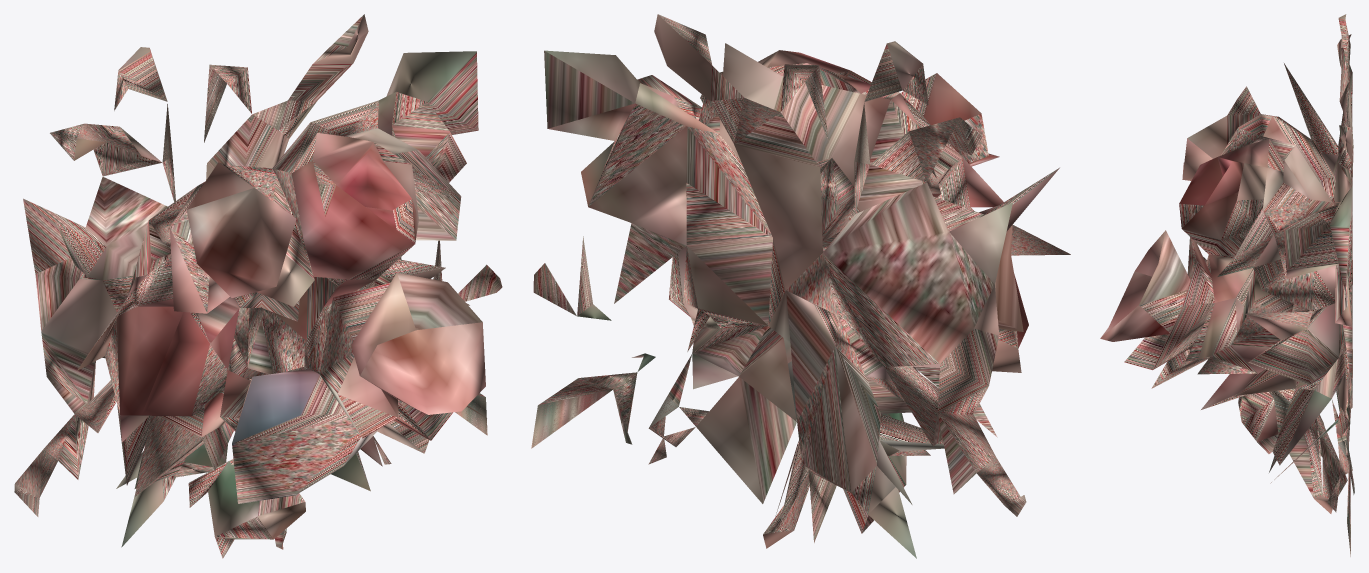
3 views of the same model, side by side, from view 1: azimuth 30°, elevation 25°; view 2: azimuth 150°, elevation 25°; view 3: azimuth 270°, elevation 25° (orthographic). The views are drawn at different scales.
Visible parts, largest first — view 1: Rose-Bouquet-10-28; view 2: Rose-Bouquet-10-28; view 3: Rose-Bouquet-10-28.
Boxes of the visible parts, left/top/right/bottom form: Rose-Bouquet-10-28: left=14, top=14, right=502, bottom=558; Rose-Bouquet-10-28: left=531, top=14, right=1070, bottom=558; Rose-Bouquet-10-28: left=1100, top=14, right=1354, bottom=556.
Size of the model in its own units: 0.2835 by 0.2968 by 0.1538.
Materials: 1 (1 with a texture image).
